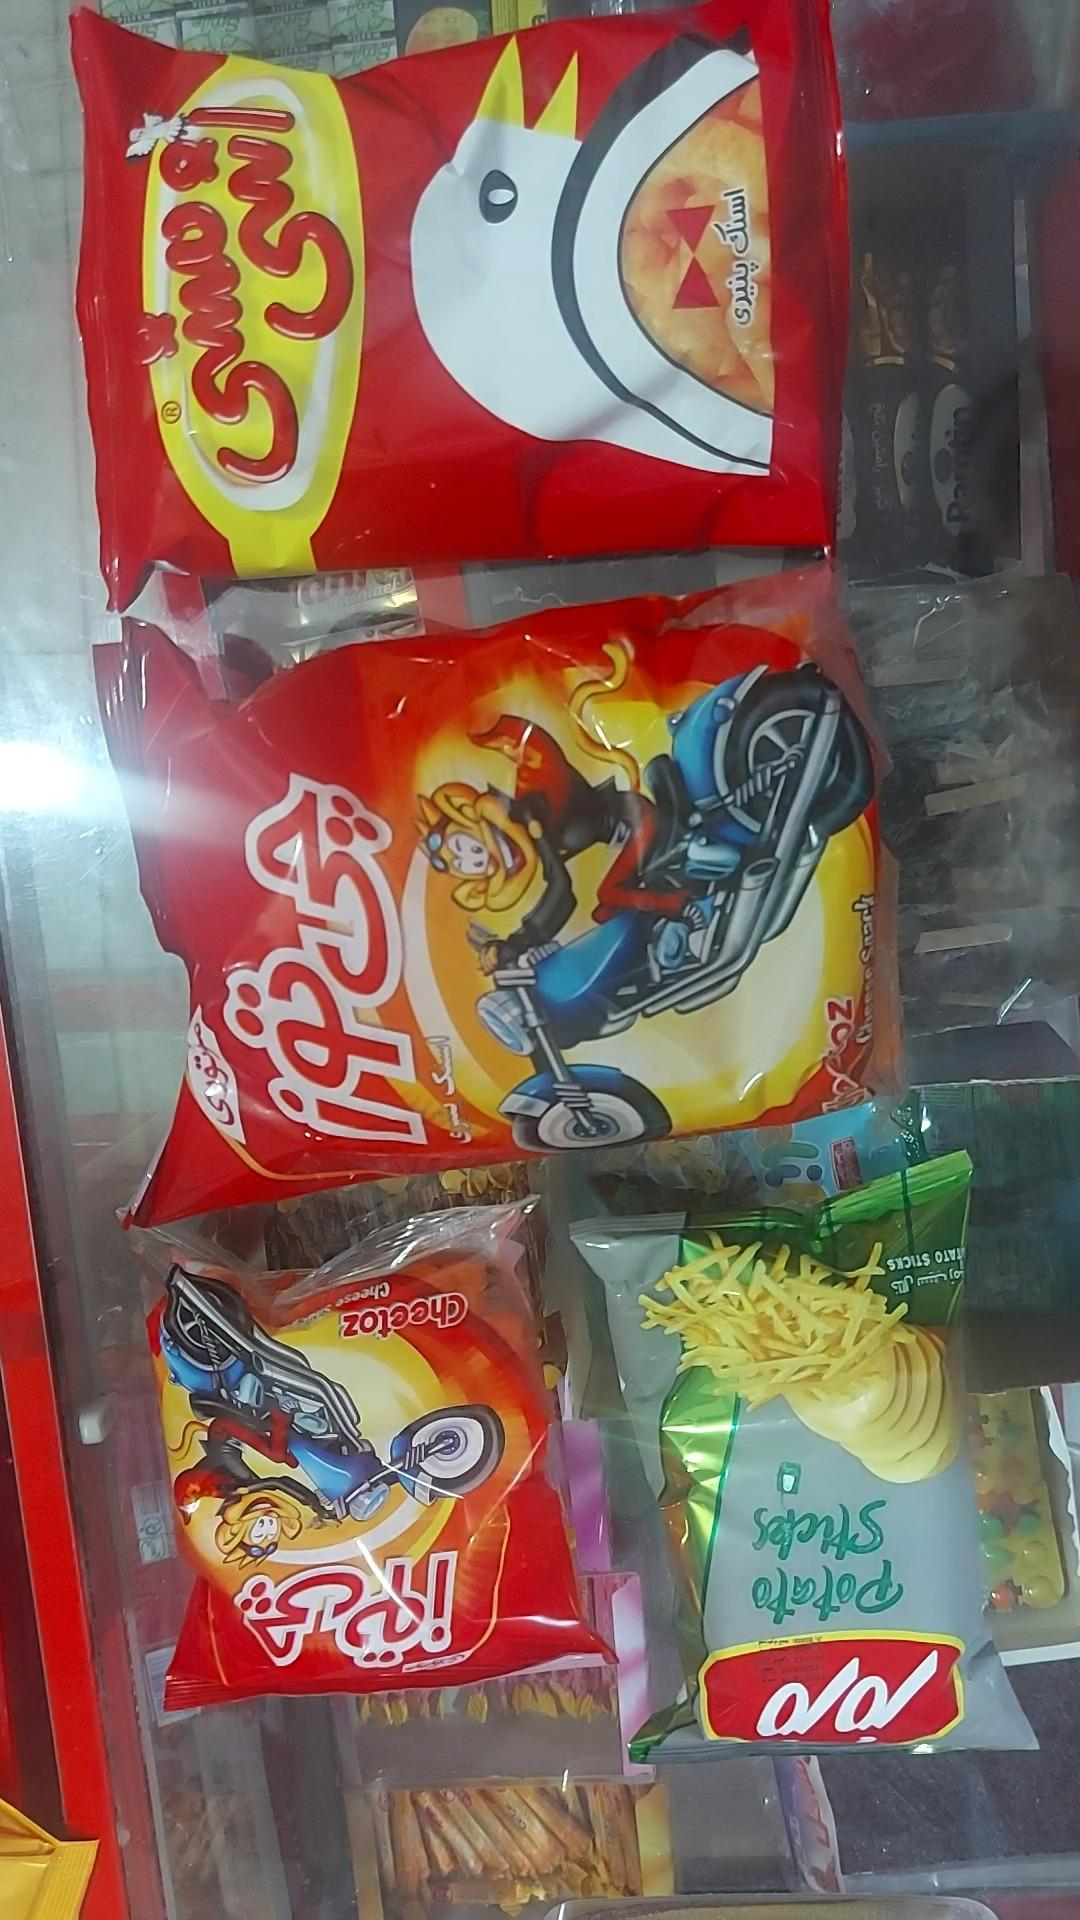Ashi Mashi snacks: (74, 0, 848, 603)
Cheetoz snack 30g: (149, 1203, 615, 1712)
Cheetoz snack 90g: (96, 567, 899, 1228)
Maz Maz potato sticks: (568, 1155, 1035, 1764)
